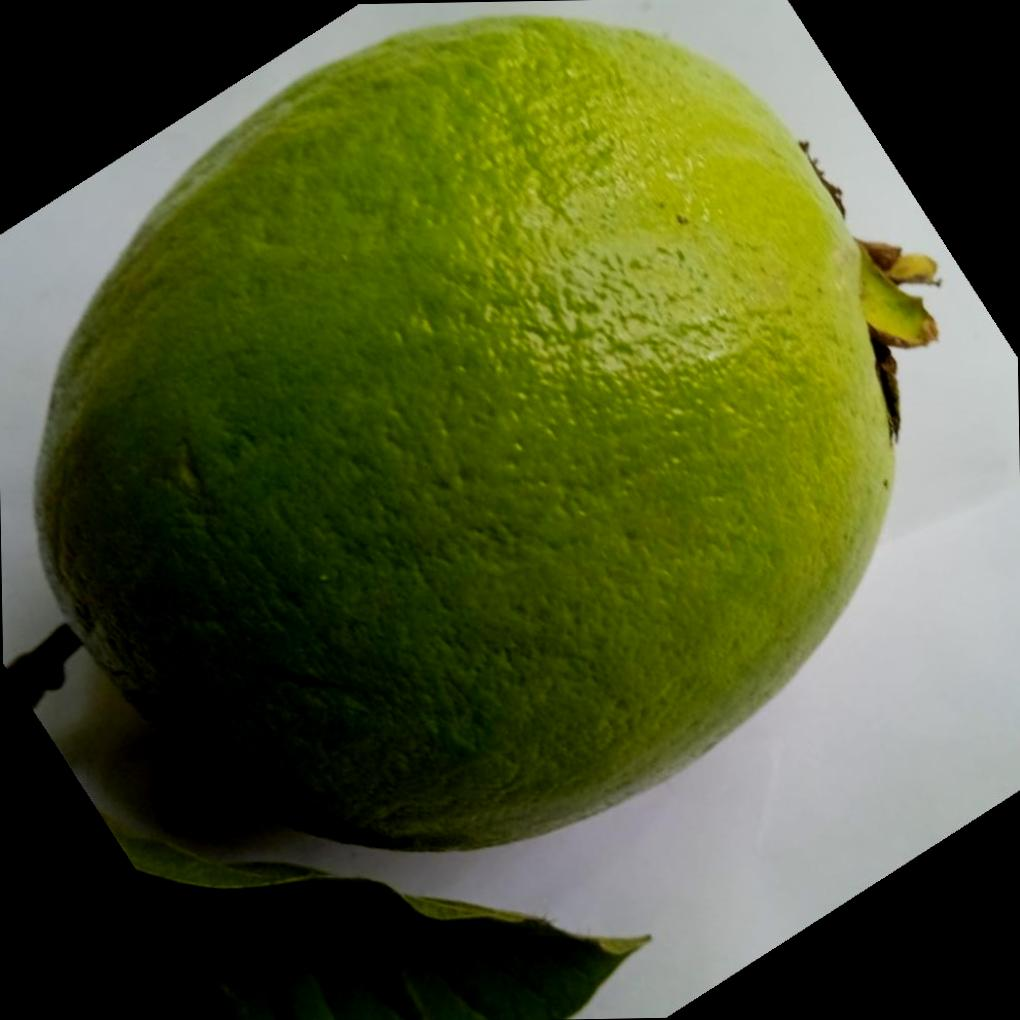FreshGuava: (33, 15, 931, 853)
